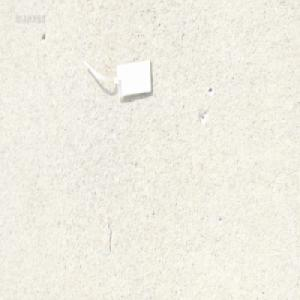LuggageTag: (81, 55, 154, 101)
